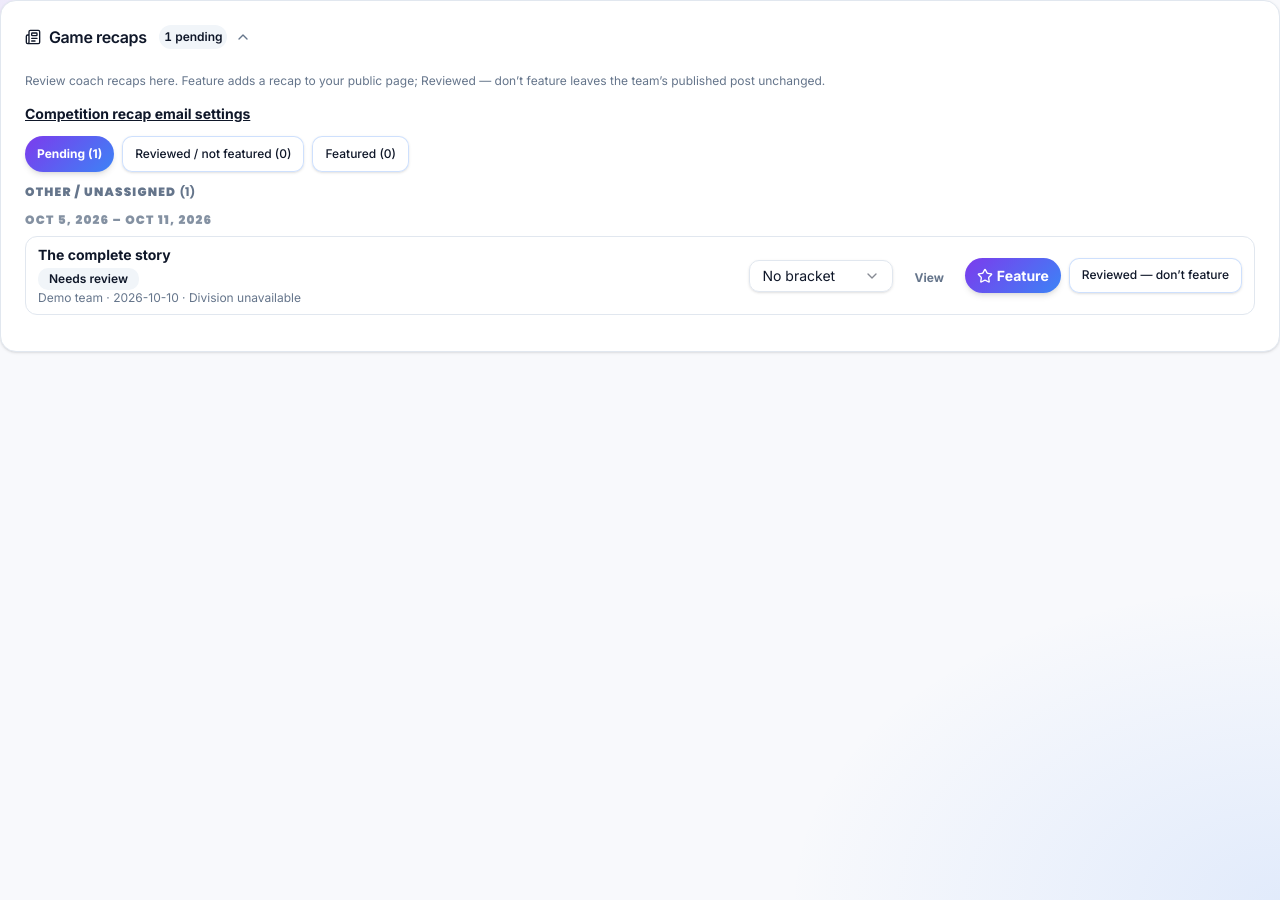
Test: competition review console › auto-expands a deep link, uses typed View IDs, and preserves reviewed state through feature/unfeature
Expected: the text "The complete story" is shown, [38, 246, 171, 263]
Expected: the button "Pending (1)" is shown, [25, 136, 114, 172]
Click the button "Reviewed — don’t feature": click(1155, 276) [1069, 258, 1242, 293]
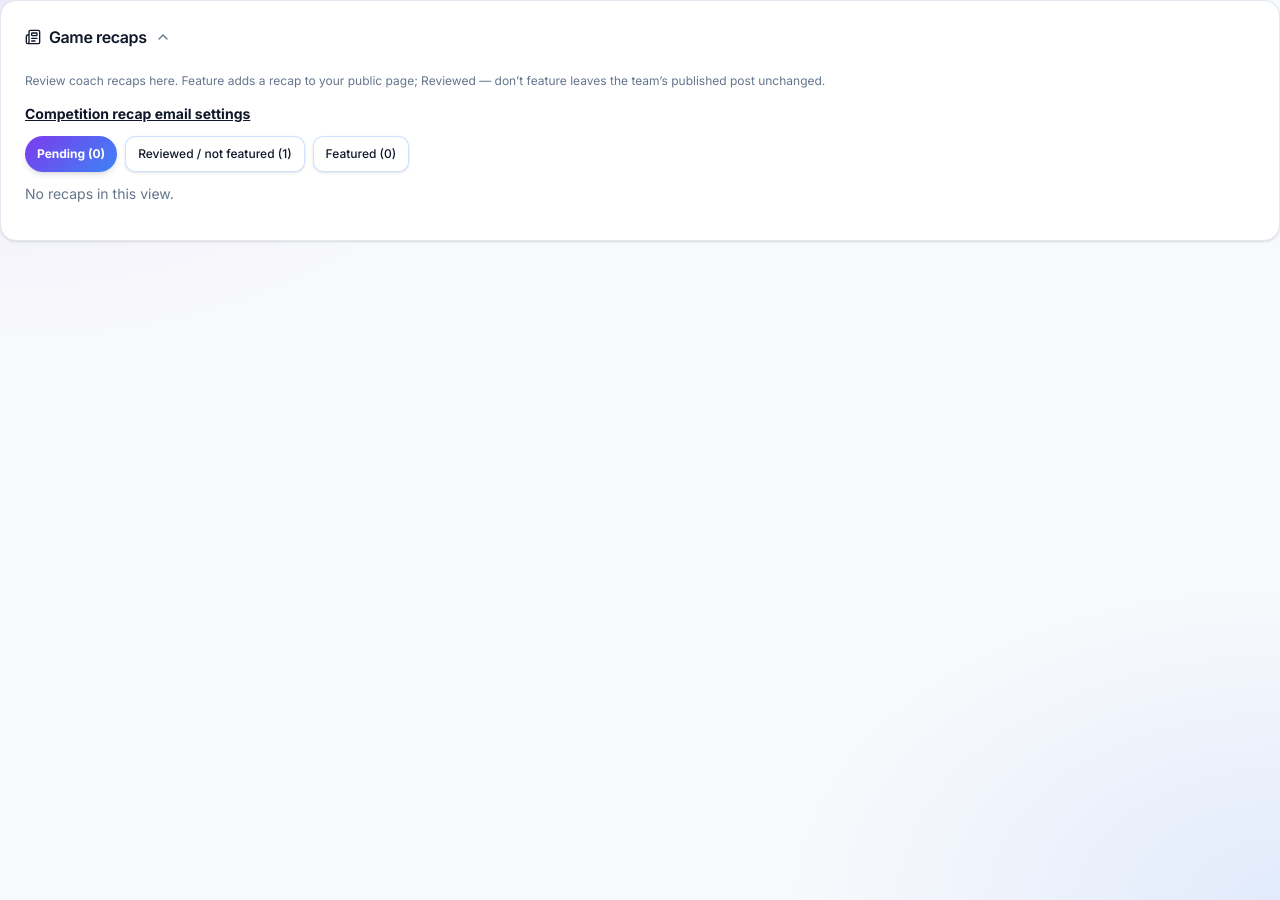
Expected: the button "Pending (0)" is shown, [25, 136, 117, 172]
Expected: the button "Reviewed / not featured (1)" is shown
Click the button with test id "recaps-view-reviewed": click(215, 154) [125, 136, 305, 172]
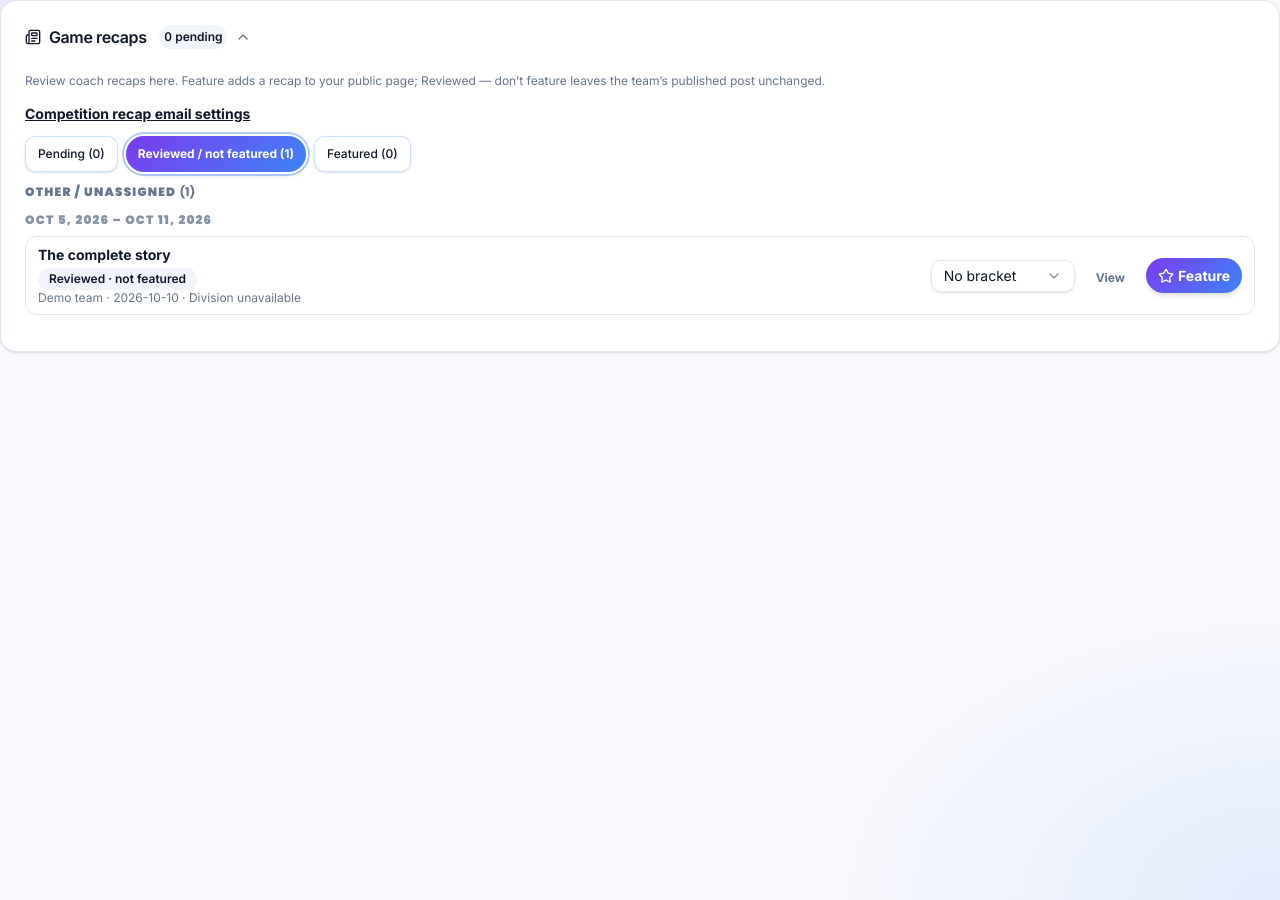
Expected: the text "Reviewed · not featured" is shown, [38, 268, 197, 290]
Click the button "Feature": click(1194, 276) [1146, 258, 1242, 293]
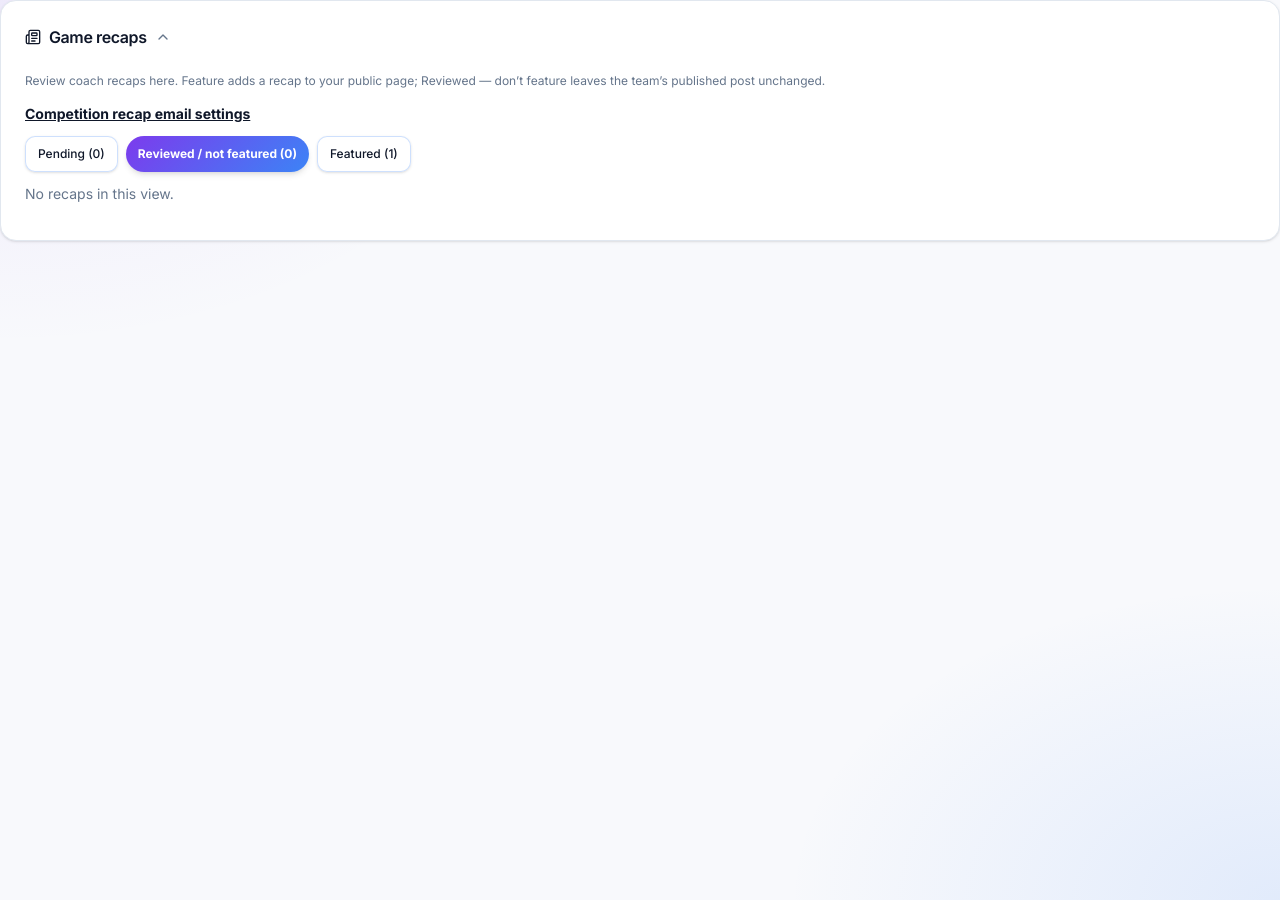
Click the button with test id "recaps-view-featured": click(364, 154) [317, 136, 411, 172]
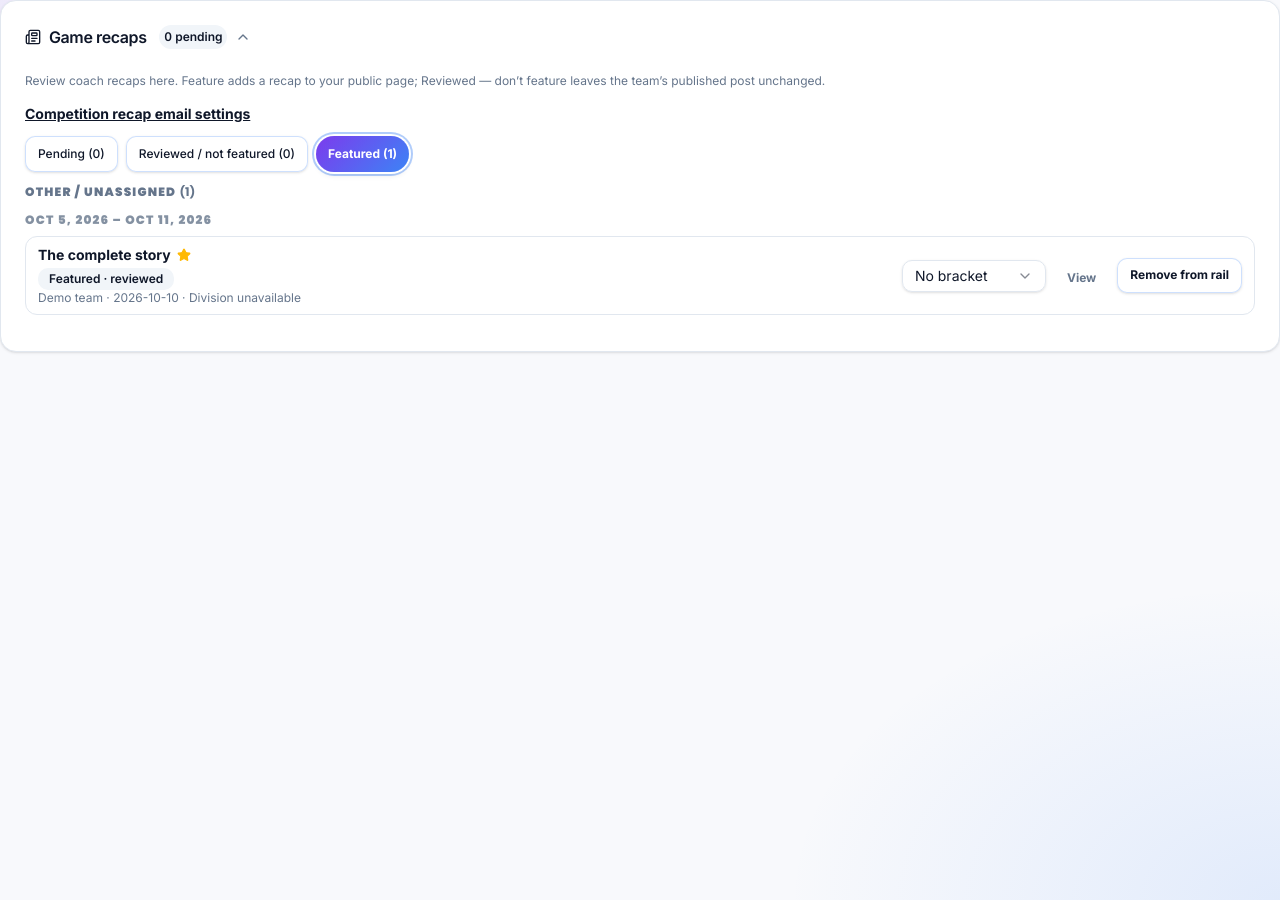
Expected: the button "Featured (1)" is shown, [316, 136, 409, 172]
Expected: the button "Reviewed / not featured (0)" is shown, [126, 136, 308, 172]
Expected: the text "Featured · reviewed" is shown, [38, 268, 174, 290]
Click the button "Remove from rail": click(1180, 276) [1117, 258, 1242, 293]
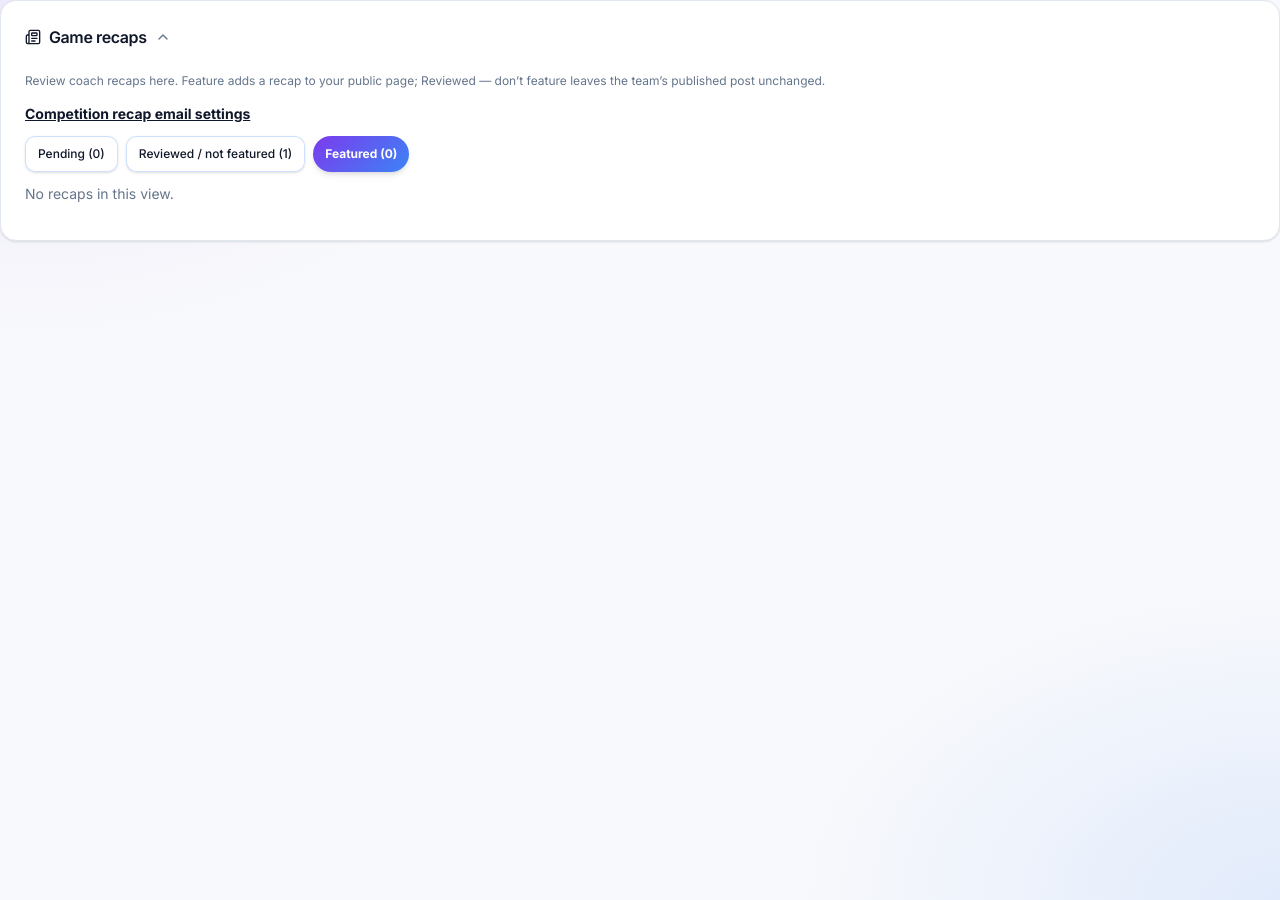
Click the button with test id "recaps-view-reviewed": click(216, 154) [126, 136, 305, 172]
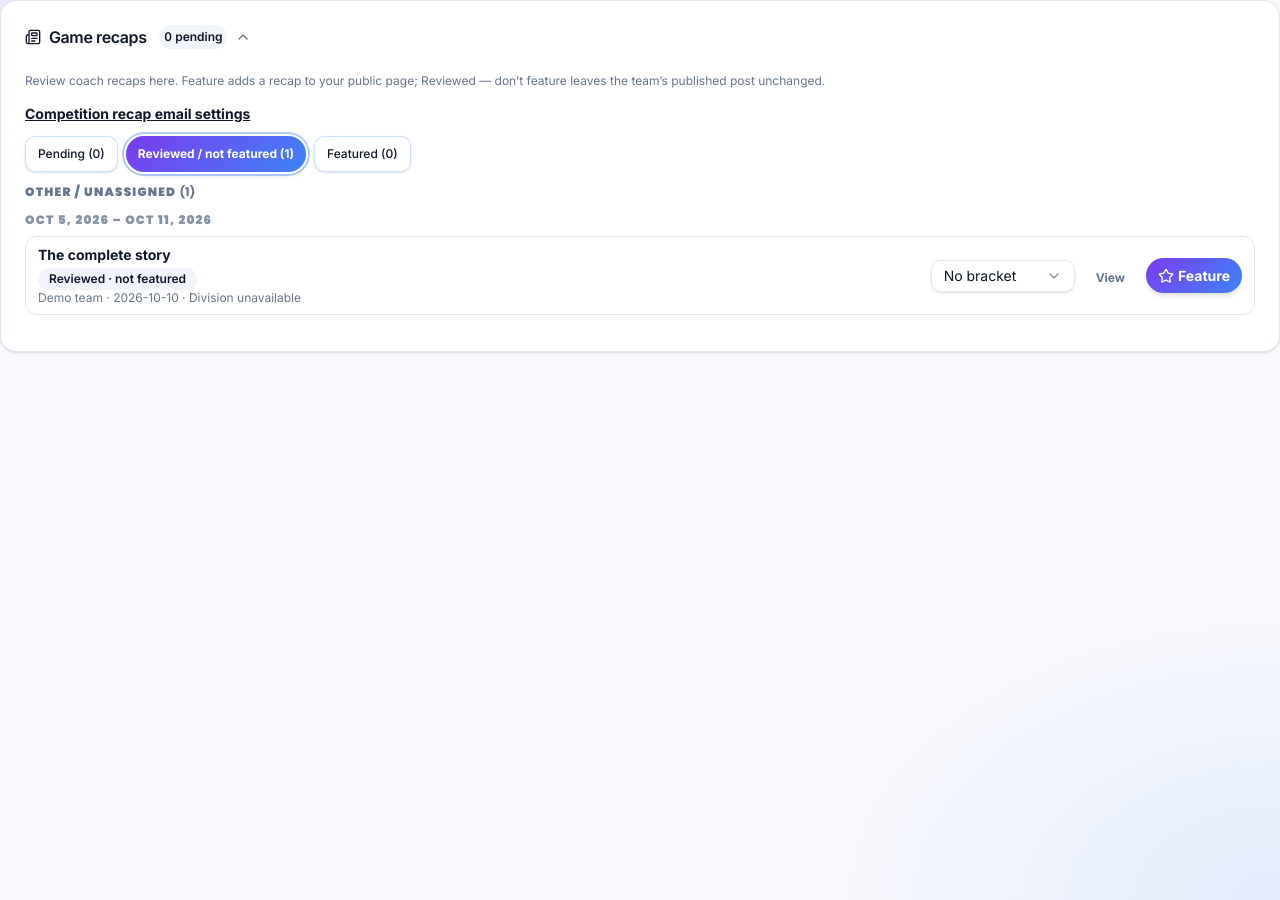
Expected: the button "Reviewed / not featured (1)" is shown, [126, 136, 306, 172]
Expected: the button "Featured (0)" is shown, [314, 136, 411, 172]
Expected: the text "Reviewed · not featured" is shown, [38, 268, 197, 290]
